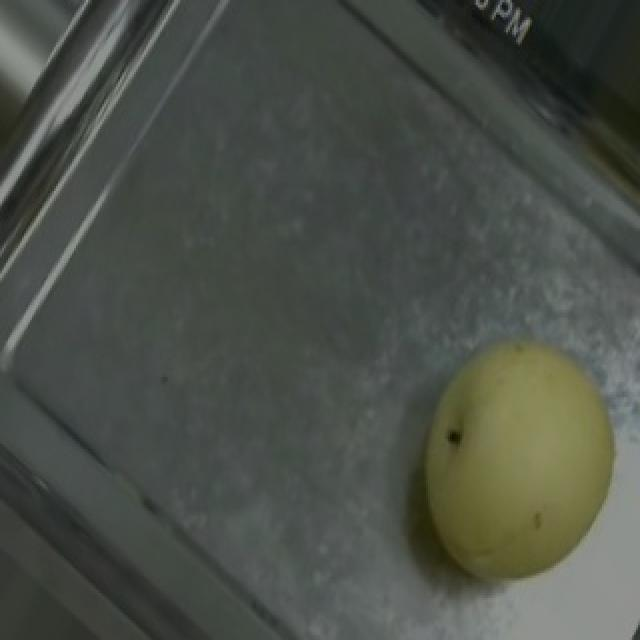Fruit: (378, 302, 640, 612)
